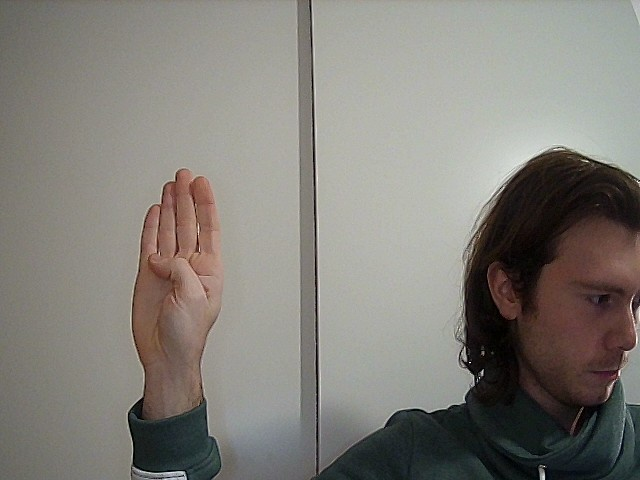b: (98, 165, 246, 359)
